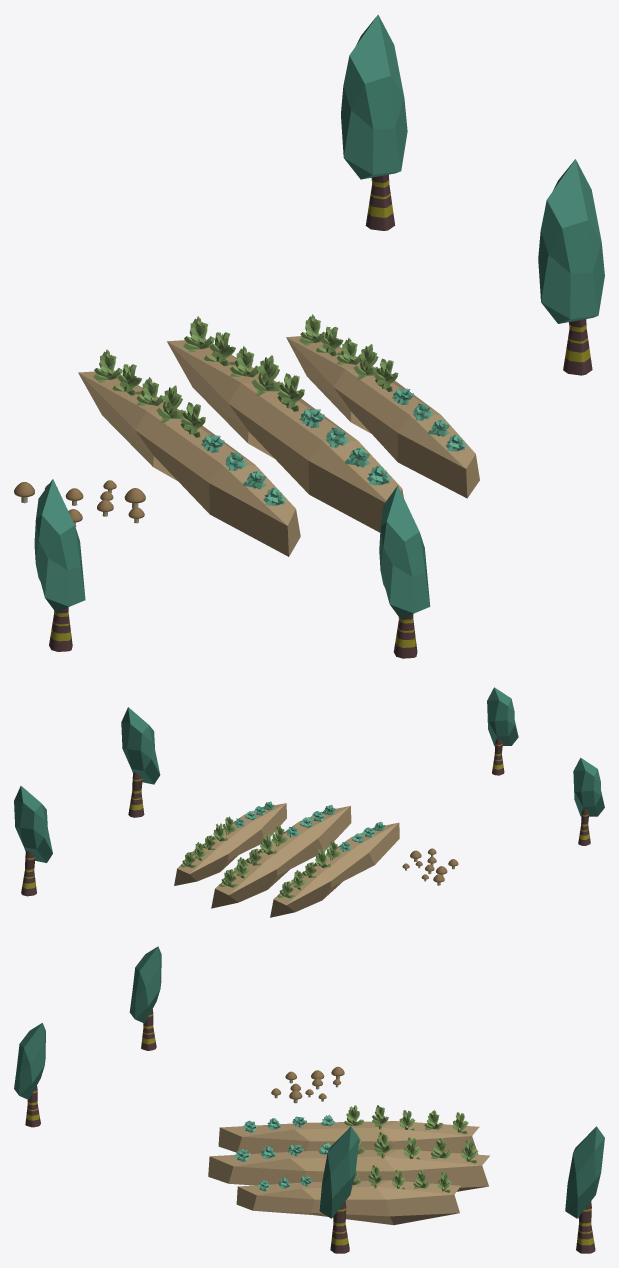
Rendered from plants.fbx.
The picture shows the model from 3 angles, top to bottom: view 1: azimuth 30°, elevation 25°; view 2: azimuth 150°, elevation 25°; view 3: azimuth 270°, elevation 25°; orthographic projection. The views are drawn at different scales.
Visible parts, largest first — view 1: pCube1 (×4), crops, crops2, crops1, smol_tree, smol_tree5; view 2: pCube1 (×4), crops, crops2, crops1, smol_tree, smol_tree5, smol_tree4, smol_tree2; view 3: pCube1 (×4), crops, crops1, crops2, smol_tree5, smol_tree, smol_tree4, smol_tree2.
Part boxes in pixels (<box>): pCube1 (×4): <box>34,14,604,619</box>; crops: <box>167,339,403,532</box>; crops2: <box>78,371,300,556</box>; crops1: <box>286,336,479,498</box>; smol_tree: <box>563,319,592,375</box>; smol_tree5: <box>365,174,395,230</box>; pCube1 (×4): <box>14,687,604,862</box>; crops: <box>211,806,351,908</box>; crops2: <box>270,822,399,917</box>; crops1: <box>174,803,286,885</box>; smol_tree: <box>128,772,144,817</box>; smol_tree5: <box>21,851,36,896</box>; smol_tree4: <box>578,809,590,845</box>; smol_tree2: <box>492,739,504,775</box>; pCube1 (×4): <box>14,946,604,1218</box>; crops: <box>208,1149,489,1191</box>; crops1: <box>236,1180,460,1225</box>; crops2: <box>218,1121,479,1154</box>; smol_tree5: <box>576,1201,595,1253</box>; smol_tree: <box>330,1201,349,1253</box>; smol_tree4: <box>141,1009,156,1050</box>; smol_tree2: <box>25,1086,40,1127</box>.
Bounding box in the file's own units: 16.17 × 5.32 × 18.49.
